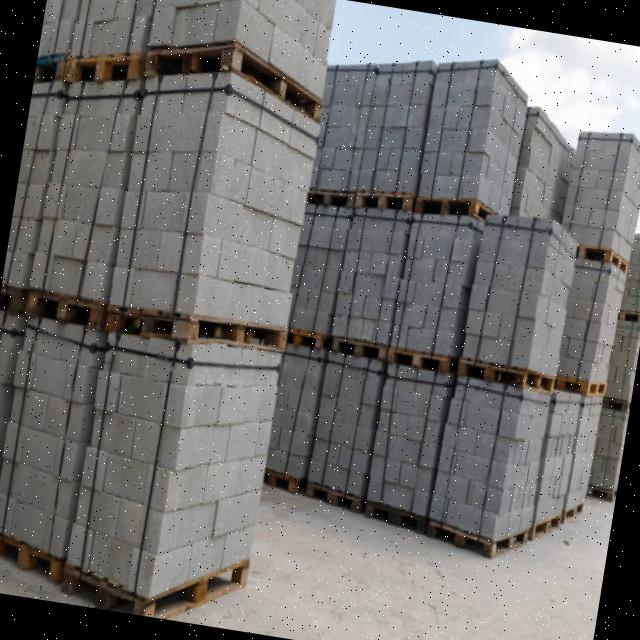Wooden-Pallets: (141, 36, 326, 128), (55, 550, 255, 618), (95, 296, 293, 363), (423, 510, 533, 571), (456, 353, 557, 400), (0, 523, 63, 589), (62, 42, 143, 90), (21, 286, 96, 335), (382, 336, 455, 386), (346, 180, 411, 222), (327, 326, 388, 370), (411, 192, 491, 224), (575, 239, 633, 279), (558, 372, 609, 401), (559, 496, 586, 528)
